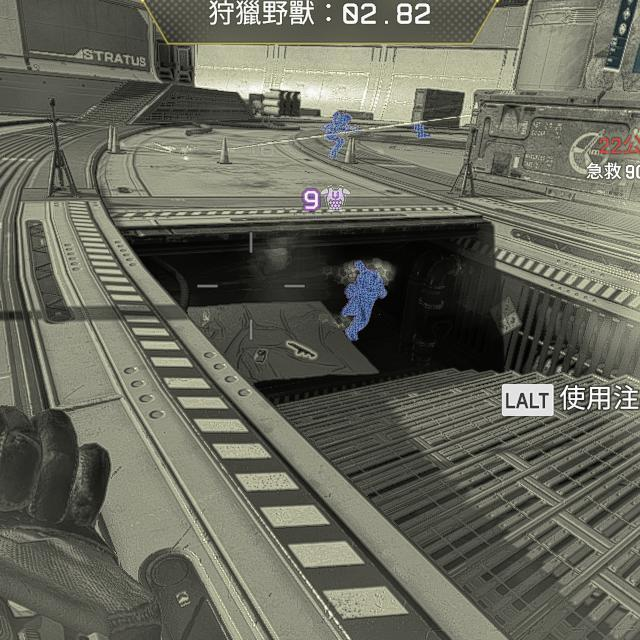avatar: (340, 264, 387, 345), (322, 107, 355, 164)
